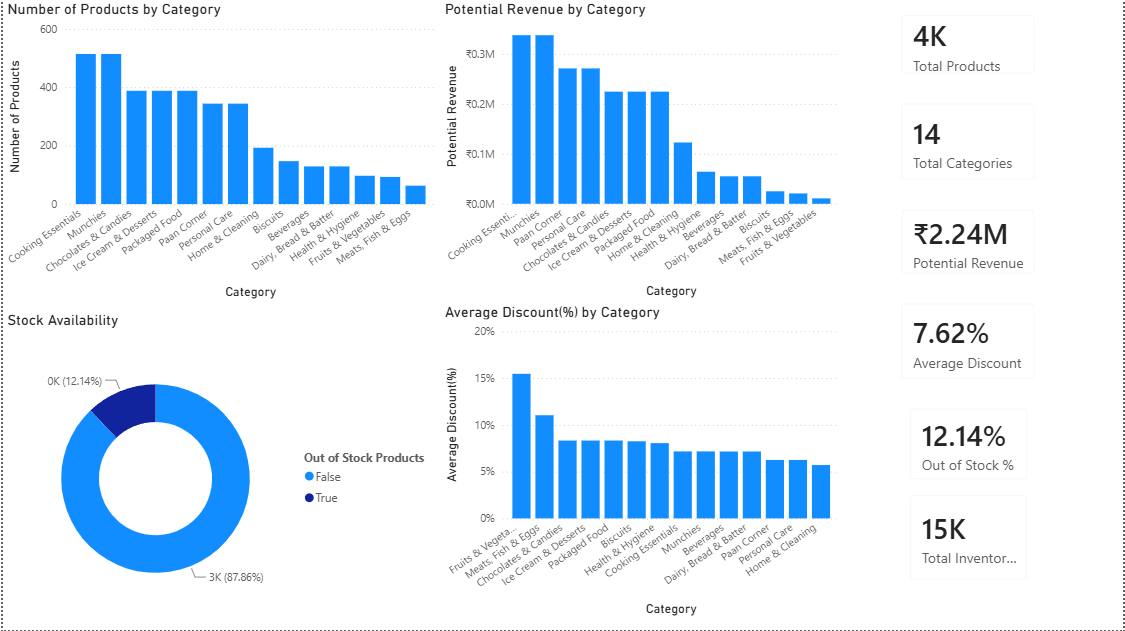

The page's visual inventory and layout, read from the dashboard file:
{"tool":"powerbi","page":{"name":"Page 1","canvas":[1280,720],"ordinal":0},"visuals":[{"type":"clusteredColumnChart","fields":{"Category":["public zepto.category"],"Y":["CountNonNull(public zepto.name)"]},"box":[0,0,500,346.2],"z":0},{"type":"clusteredColumnChart","fields":{"Category":["public zepto.category"],"Y":["public zepto.Potential Revenue"]},"box":[499.8,0,461.6,345.9],"z":1000},{"type":"donutChart","title":"Stock Availability","fields":{"Category":["public zepto.outofstock"],"Y":["public zepto.Total Products"]},"box":[0,356.2,500,363.8],"z":2000},{"type":"clusteredColumnChart","fields":{"Category":["public zepto.category"],"Y":["public zepto.Average Discount"]},"box":[500,346.2,461.2,363.8],"z":3000},{"type":"cardVisual","fields":{"Data":["public zepto.Total Products"]},"box":[1010,0,186.2,101.2],"z":4000},{"type":"cardVisual","fields":{"Data":["public zepto.Total Categories"]},"box":[1010,101.2,186.2,121.2],"z":5000},{"type":"cardVisual","fields":{"Data":["public zepto.Potential Revenue"]},"box":[1010,222.5,186.2,107.5],"z":6000},{"type":"cardVisual","fields":{"Data":["public zepto.Average Discount"]},"box":[1010,330,186.2,102.5],"z":7000},{"type":"cardVisual","fields":{"Data":["public zepto.Total Inventory Units"]},"box":[1020,548.8,167.5,131.2],"z":8000},{"type":"cardVisual","fields":{"Data":["public zepto.Out of Stock %"]},"box":[1020,432.5,167.5,116.2],"z":9000}]}

Visuals, with their boxes in screenshot pixels (x1, y1, x2, y2), scaled from the page's 1280x720 canvas onto the 1125x631 screenshot:
clusteredColumnChart - public zepto.category x CountNonNull(public zepto.name): <box>0,0,439,303</box>
clusteredColumnChart - public zepto.category x public zepto.Potential Revenue: <box>439,0,845,303</box>
"Stock Availability" donutChart: <box>0,312,439,630</box>
clusteredColumnChart - public zepto.category x public zepto.Average Discount: <box>439,303,845,622</box>
cardVisual - public zepto.Total Products: <box>888,0,1051,89</box>
cardVisual - public zepto.Total Categories: <box>888,89,1051,195</box>
cardVisual - public zepto.Potential Revenue: <box>888,195,1051,289</box>
cardVisual - public zepto.Average Discount: <box>888,289,1051,379</box>
cardVisual - public zepto.Total Inventory Units: <box>896,481,1044,596</box>
cardVisual - public zepto.Out of Stock %: <box>896,379,1044,481</box>
